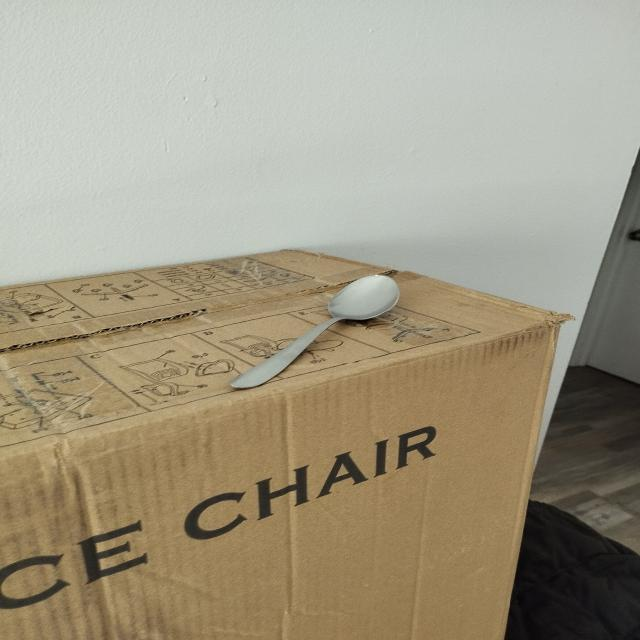Spoon: (214, 272, 413, 394)
